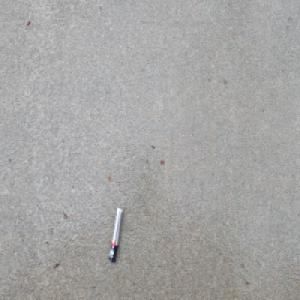Battery: (108, 204, 124, 264)
